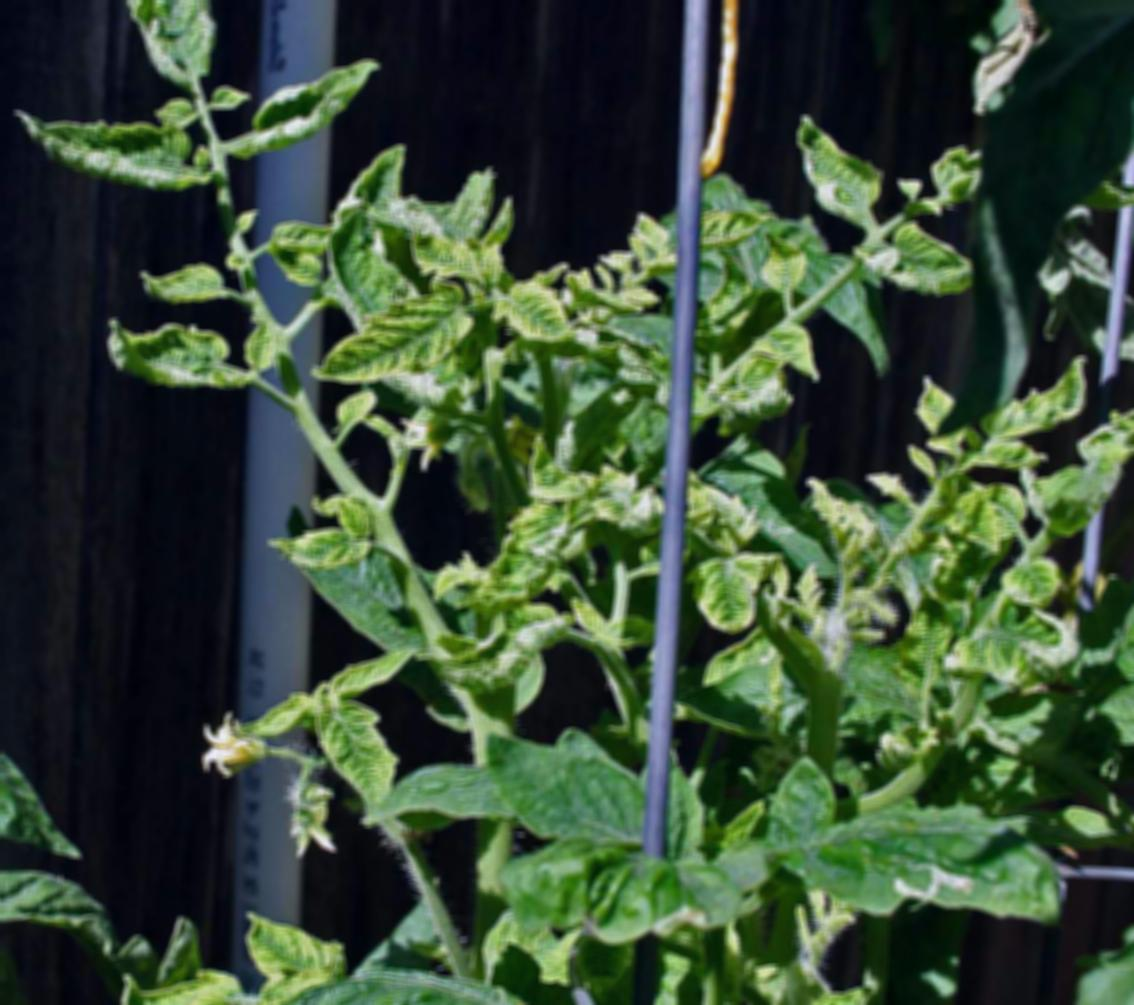Tomato leaf yellow virus: (754, 768, 1085, 934), (466, 720, 700, 864), (460, 441, 617, 612), (0, 99, 221, 209), (69, 311, 267, 410), (315, 286, 490, 395), (286, 679, 417, 811), (973, 335, 1091, 455), (783, 109, 881, 229), (936, 605, 1072, 688), (244, 498, 376, 576), (478, 267, 587, 358), (116, 0, 230, 86), (394, 215, 512, 293), (686, 546, 775, 643), (927, 473, 1030, 551), (878, 224, 976, 304), (121, 251, 234, 311), (986, 556, 1063, 617)
